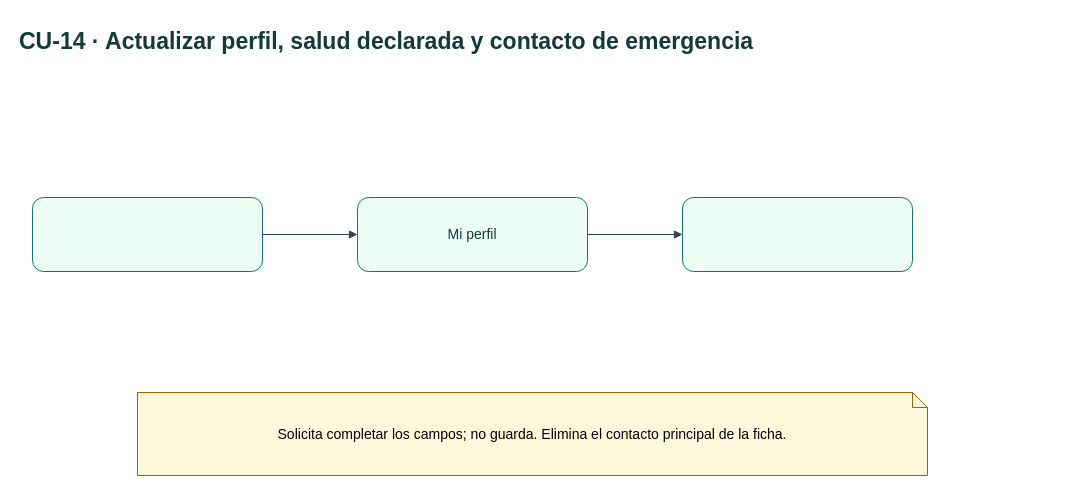
Some shapes in this 1074 by 493 pixel diagram are drawn without their labels. Here are the shapes that lost their labels. From the top down, the box of each, then its label:
(32, 196, 262, 272): Mi cuenta
(682, 196, 912, 272): Perfil actualizado
